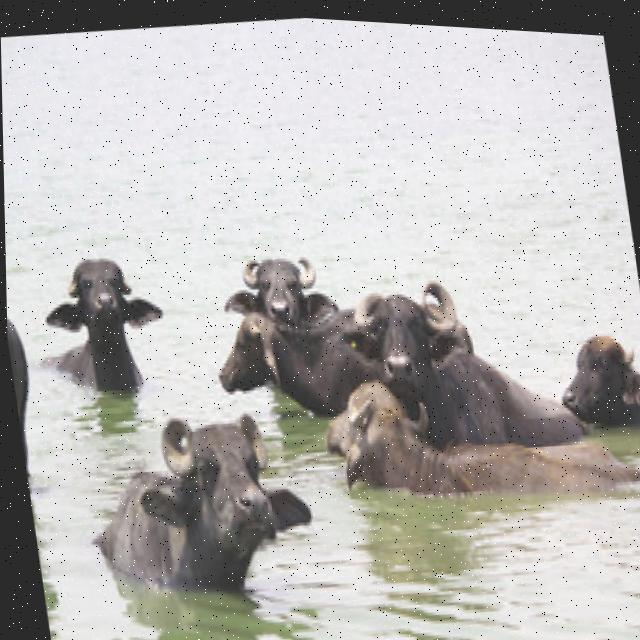Buffalo: (82, 394, 323, 617), (37, 243, 173, 394)
